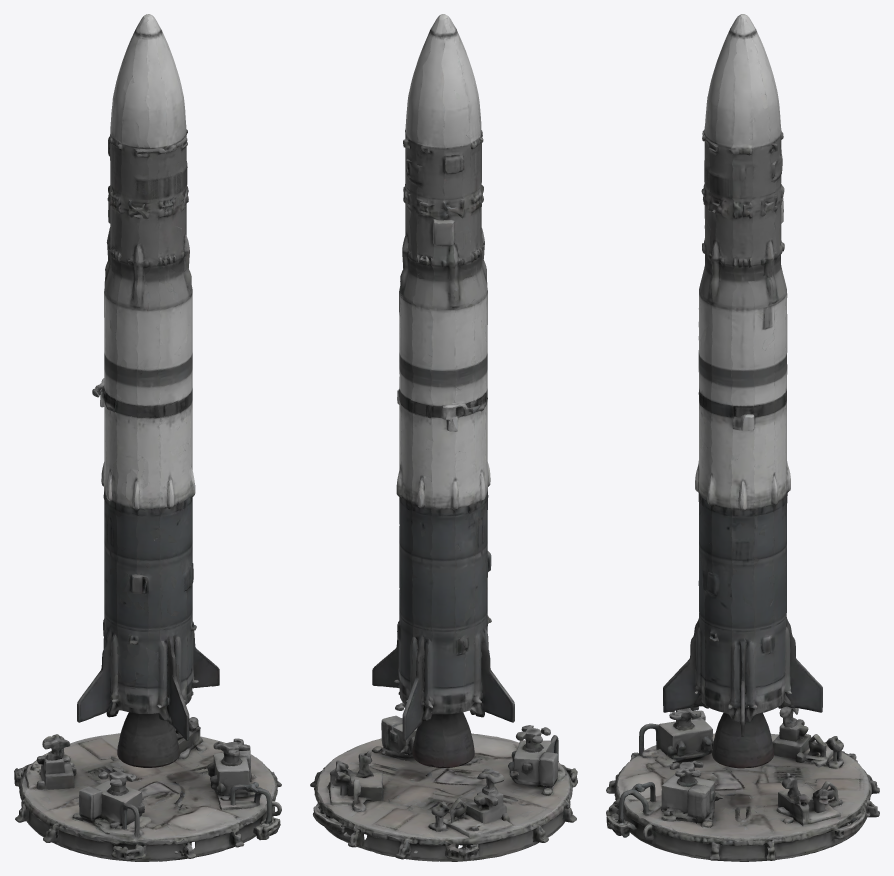
The model's file is space-rocket-trellis.glb.
The picture shows the model from 3 angles, left to right: view 1: azimuth 30°, elevation 25°; view 2: azimuth 150°, elevation 25°; view 3: azimuth 270°, elevation 25°; orthographic projection.
Visible parts, largest first — view 1: launch_pad_base, lower_fuel_tank, upper_fuel_tank, payload_bay, nose_cone, engine_nozzle, fin_left, fin_back, fin_right; view 2: launch_pad_base, lower_fuel_tank, upper_fuel_tank, payload_bay, nose_cone, engine_nozzle, fin_left, fin_front, fin_right; view 3: launch_pad_base, lower_fuel_tank, upper_fuel_tank, payload_bay, nose_cone, engine_nozzle, fin_front, fin_back, fin_right.
Part boxes in pixels (left/top/right/bottom): launch_pad_base: left=14, top=717, right=281, bottom=861; lower_fuel_tank: left=42, top=389, right=250, bottom=786; upper_fuel_tank: left=93, top=288, right=194, bottom=498; payload_bay: left=104, top=146, right=192, bottom=306; nose_cone: left=108, top=14, right=187, bottom=164; engine_nozzle: left=116, top=712, right=178, bottom=756; fin_left: left=77, top=670, right=121, bottom=722; fin_back: left=154, top=679, right=189, bottom=740; fin_right: left=192, top=649, right=219, bottom=695; launch_pad_base: left=310, top=715, right=577, bottom=861; lower_fuel_tank: left=392, top=408, right=550, bottom=783; upper_fuel_tank: left=397, top=288, right=490, bottom=498; payload_bay: left=399, top=149, right=487, bottom=306; nose_cone: left=403, top=14, right=483, bottom=166; engine_nozzle: left=413, top=712, right=473, bottom=757; fin_left: left=470, top=670, right=514, bottom=722; fin_front: left=402, top=678, right=437, bottom=740; fin_right: left=372, top=648, right=399, bottom=694; launch_pad_base: left=606, top=710, right=879, bottom=861; lower_fuel_tank: left=669, top=479, right=798, bottom=777; upper_fuel_tank: left=695, top=272, right=790, bottom=499; payload_bay: left=699, top=150, right=786, bottom=306; nose_cone: left=702, top=14, right=783, bottom=164; engine_nozzle: left=704, top=705, right=781, bottom=757; fin_front: left=781, top=660, right=822, bottom=712; fin_back: left=663, top=661, right=704, bottom=712; fin_right: left=726, top=682, right=759, bottom=736.
Size of the model in its own units: 0.1243 by 0.4 by 0.1249.
Materials: 1 (1 with a texture image).
